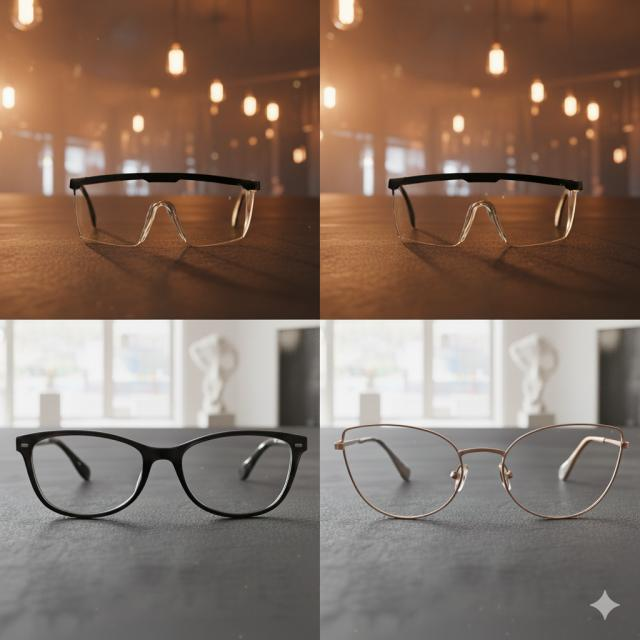oculos-epi: (388, 172, 581, 246), (69, 172, 259, 246)
sem_oculos: (354, 425, 629, 519), (17, 430, 307, 518)
